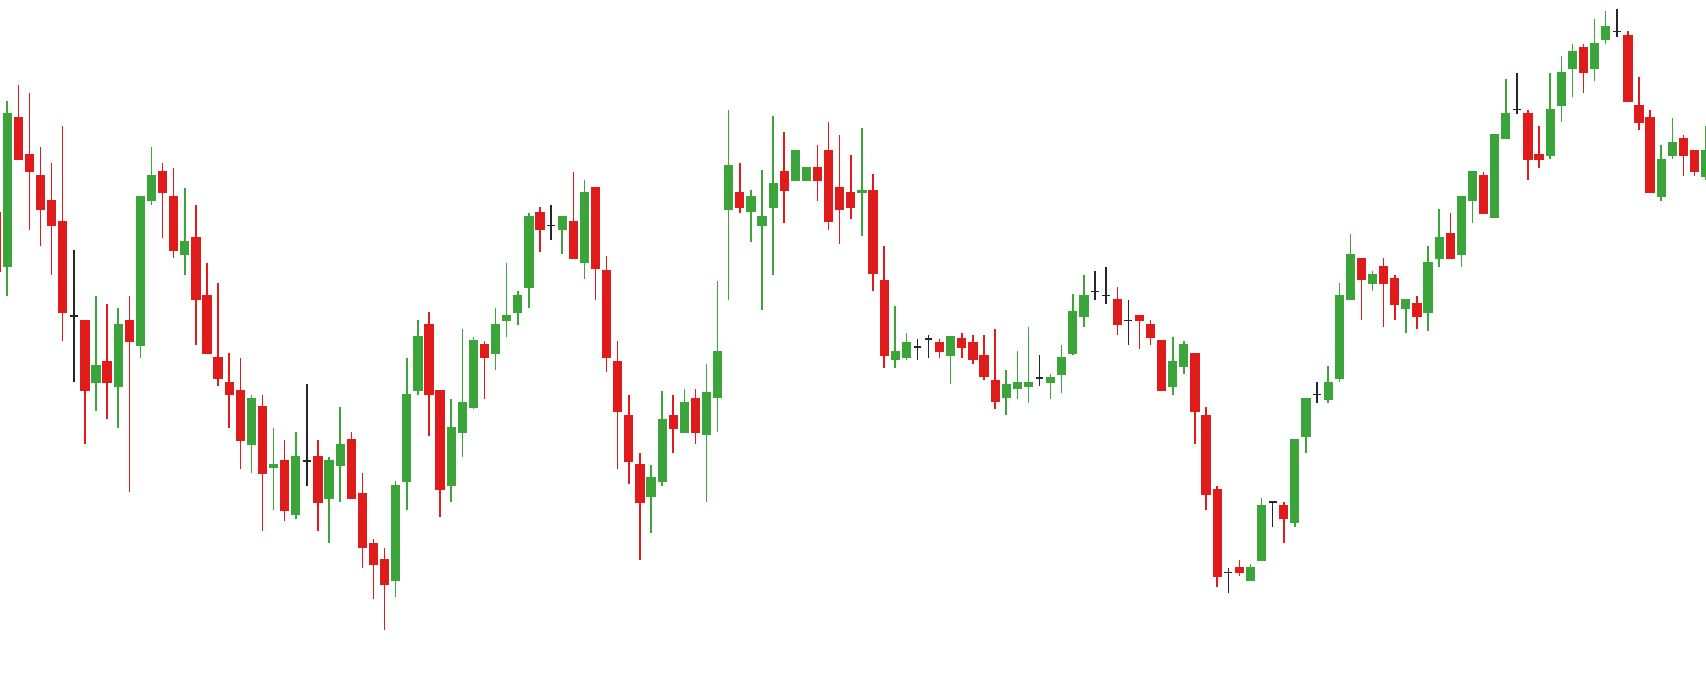buy: (433, 312, 656, 559), (1521, 90, 1670, 210)
